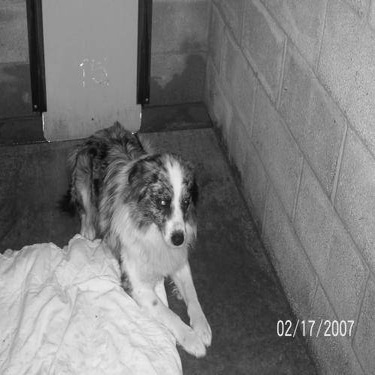dog: (42, 113, 218, 366)
